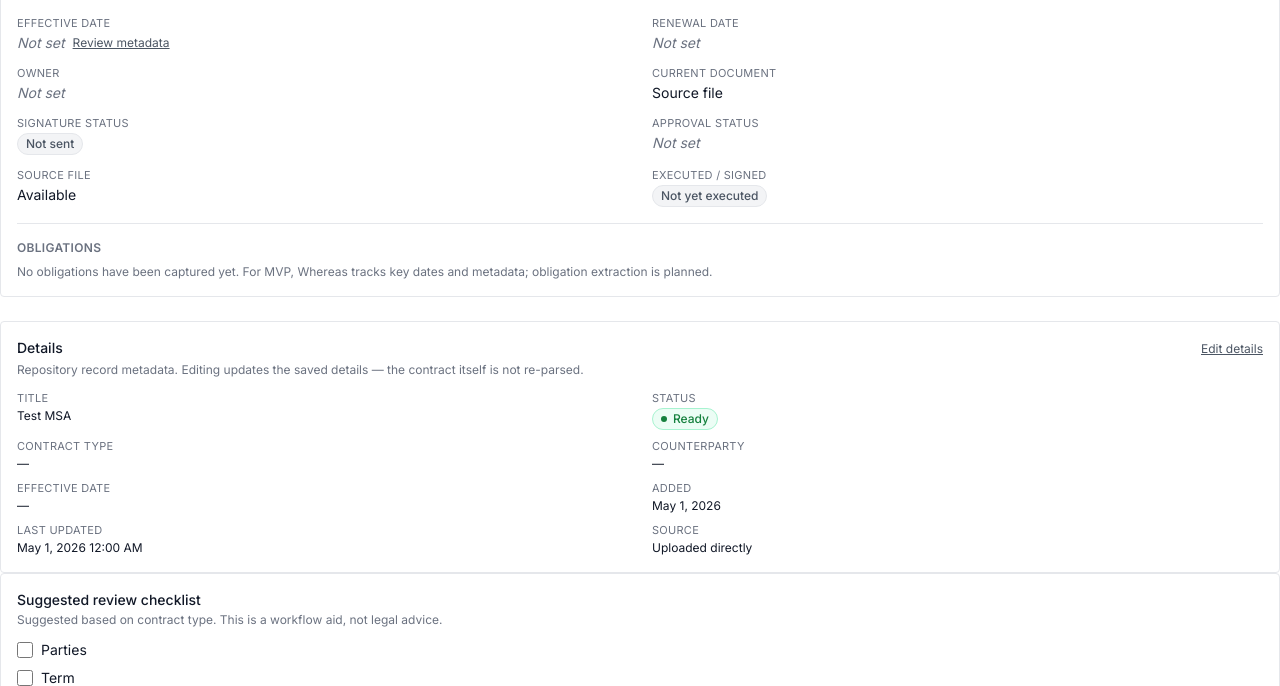
Test: ContractWorkspacePage Repository detail polish (PR #68) › opens the Edit details panel and reuses the upload-review form
(page scrolled)
Click the button with test id "contract-details-edit".
click(1232, 349)  # box [1201,341,1263,357]
(page scrolled)
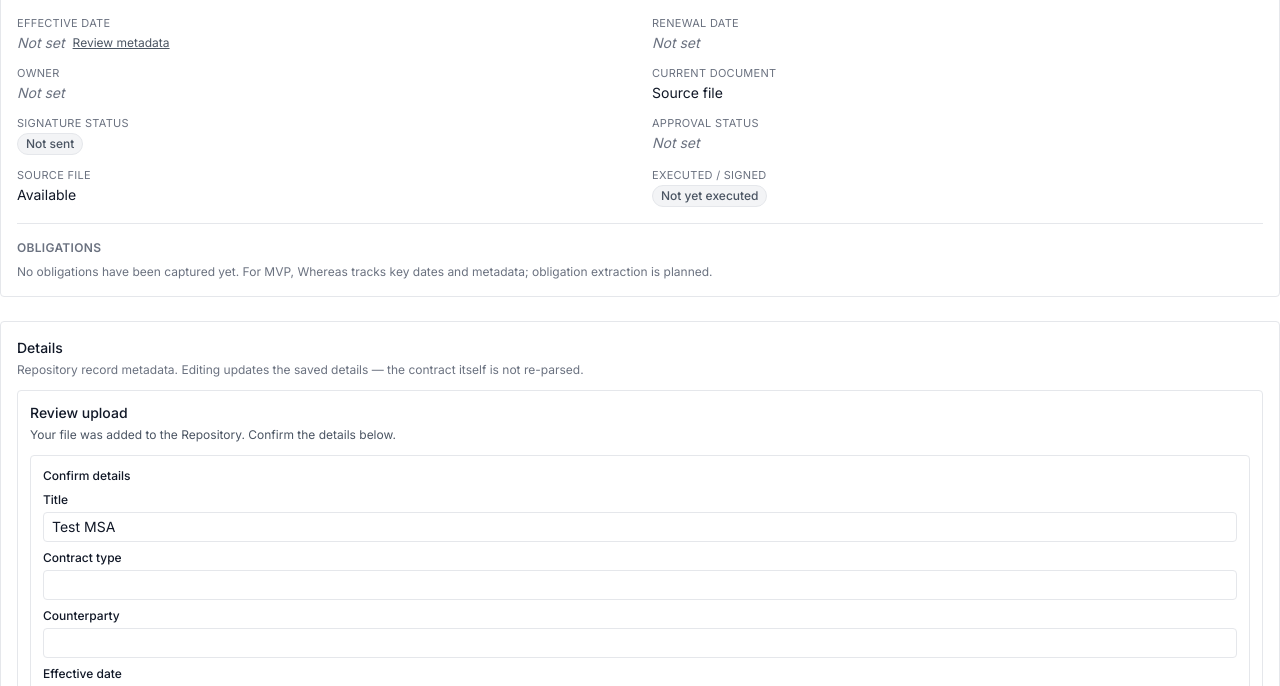
Expected: the field with test id "upload-review-title" is shown, [43,512,1237,542]
